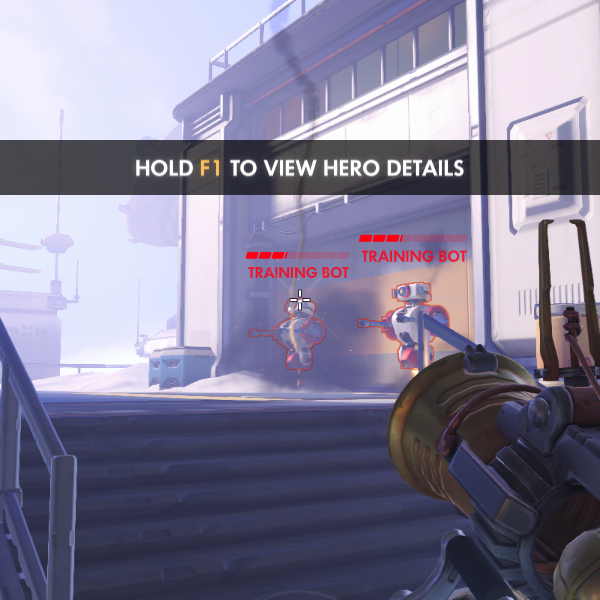hpbar: (245, 251, 350, 260), (358, 234, 469, 242)
